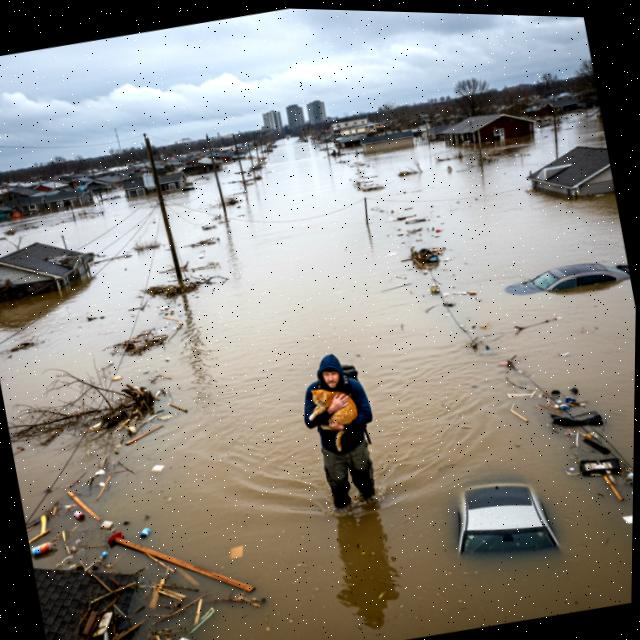cat: (301, 376, 375, 460)
civilian: (288, 335, 393, 525)
